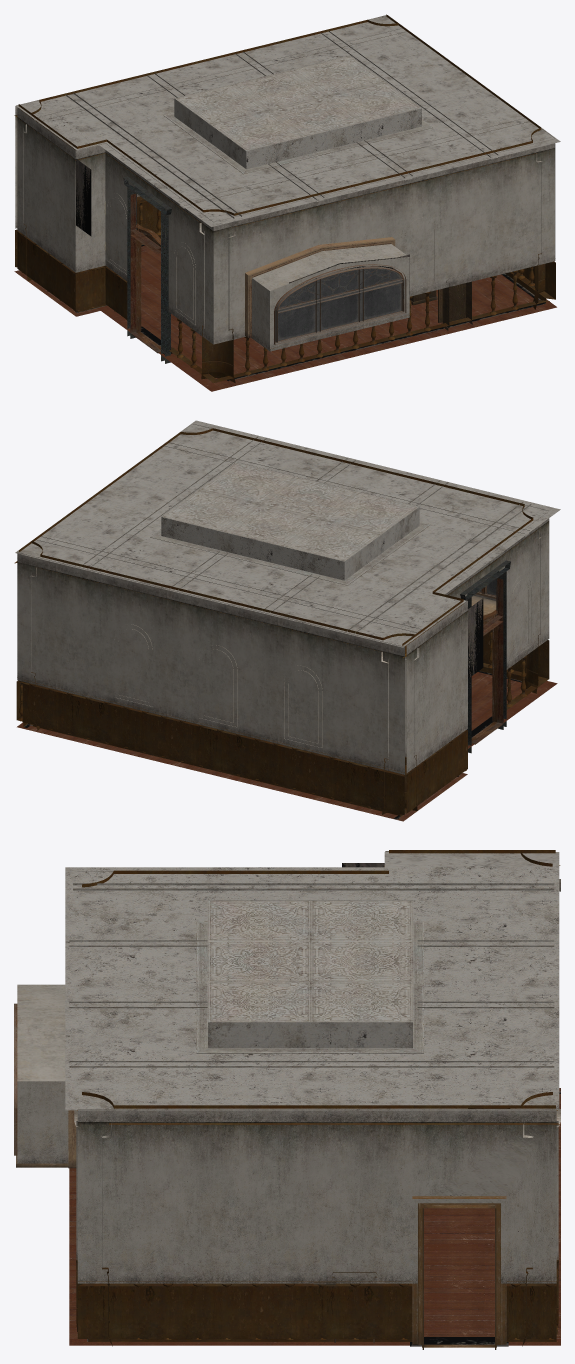
3 renders of one model, top to bottom at view 1: azimuth 30°, elevation 25°; view 2: azimuth 150°, elevation 25°; view 3: azimuth 270°, elevation 25°, orthographic. The views are drawn at different scales.
Parts seen in each view (by area): view 1: LOD_1_Group_0_Sub_2__st2_police2fRightWall01, LOD_1_Group_0_Sub_4__st2_police2fRightCeiling01, LOD_1_Group_0_Sub_5__st2_police2fRightCeiling02, LOD_1_Group_0_Sub_6__st2_police2fRightFrame01, LOD_1_Group_0_Sub_1__st2_police2fRightFloor01, LOD_1_Group_0_Sub_10__st2_police2fRightWindow02_Glass, LOD_1_Group_0_Sub_8__st2_policeHallDoorFrame04, LOD_1_Group_0_Sub_9__st2_police2fRightWindow02, LOD_1_Group_0_Sub_14__st2_police1fLeftDirt02, LOD_1_Group_0_Sub_11__st2_police2fRightDesk01, LOD_1_Group_0_Sub_7__st2_police2fRightDoor01; view 2: LOD_1_Group_0_Sub_2__st2_police2fRightWall01, LOD_1_Group_0_Sub_4__st2_police2fRightCeiling01, LOD_1_Group_0_Sub_6__st2_police2fRightFrame01, LOD_1_Group_0_Sub_5__st2_police2fRightCeiling02, LOD_1_Group_0_Sub_1__st2_police2fRightFloor01, LOD_1_Group_0_Sub_8__st2_policeHallDoorFrame04, LOD_1_Group_0_Sub_14__st2_police1fLeftDirt02, LOD_1_Group_0_Sub_7__st2_police2fRightDoor01; view 3: LOD_1_Group_0_Sub_4__st2_police2fRightCeiling01, LOD_1_Group_0_Sub_2__st2_police2fRightWall01, LOD_1_Group_0_Sub_5__st2_police2fRightCeiling02, LOD_1_Group_0_Sub_6__st2_police2fRightFrame01, LOD_1_Group_0_Sub_1__st2_police2fRightFloor01, LOD_1_Group_0_Sub_7__st2_police2fRightDoor01, LOD_1_Group_0_Sub_14__st2_police1fLeftDirt02, LOD_1_Group_0_Sub_9__st2_police2fRightWindow02.
Boxes of the visible parts, x1=… form: LOD_1_Group_0_Sub_2__st2_police2fRightWall01: x1=15, y1=15, x2=555, y2=351; LOD_1_Group_0_Sub_4__st2_police2fRightCeiling01: x1=16, y1=15, x2=560, y2=226; LOD_1_Group_0_Sub_5__st2_police2fRightCeiling02: x1=34, y1=28, x2=529, y2=337; LOD_1_Group_0_Sub_6__st2_police2fRightFrame01: x1=14, y1=14, x2=555, y2=382; LOD_1_Group_0_Sub_1__st2_police2fRightFloor01: x1=14, y1=246, x2=556, y2=391; LOD_1_Group_0_Sub_10__st2_police2fRightWindow02_Glass: x1=278, y1=268, x2=402, y2=340; LOD_1_Group_0_Sub_8__st2_policeHallDoorFrame04: x1=123, y1=176, x2=171, y2=363; LOD_1_Group_0_Sub_9__st2_police2fRightWindow02: x1=252, y1=264, x2=409, y2=351; LOD_1_Group_0_Sub_14__st2_police1fLeftDirt02: x1=75, y1=159, x2=545, y2=381; LOD_1_Group_0_Sub_11__st2_police2fRightDesk01: x1=411, y1=281, x2=472, y2=330; LOD_1_Group_0_Sub_7__st2_police2fRightDoor01: x1=131, y1=223, x2=164, y2=353; LOD_1_Group_0_Sub_2__st2_police2fRightWall01: x1=17, y1=424, x2=549, y2=774; LOD_1_Group_0_Sub_4__st2_police2fRightCeiling01: x1=15, y1=420, x2=560, y2=647; LOD_1_Group_0_Sub_6__st2_police2fRightFrame01: x1=14, y1=428, x2=549, y2=816; LOD_1_Group_0_Sub_5__st2_police2fRightCeiling02: x1=36, y1=436, x2=531, y2=635; LOD_1_Group_0_Sub_1__st2_police2fRightFloor01: x1=17, y1=672, x2=557, y2=821; LOD_1_Group_0_Sub_8__st2_policeHallDoorFrame04: x1=460, y1=560, x2=510, y2=753; LOD_1_Group_0_Sub_14__st2_police1fLeftDirt02: x1=23, y1=598, x2=521, y2=819; LOD_1_Group_0_Sub_7__st2_police2fRightDoor01: x1=471, y1=609, x2=502, y2=744; LOD_1_Group_0_Sub_4__st2_police2fRightCeiling01: x1=65, y1=852, x2=559, y2=1110; LOD_1_Group_0_Sub_2__st2_police2fRightWall01: x1=17, y1=851, x2=558, y2=1283; LOD_1_Group_0_Sub_5__st2_police2fRightCeiling02: x1=68, y1=883, x2=554, y2=1168; LOD_1_Group_0_Sub_6__st2_police2fRightFrame01: x1=74, y1=850, x2=560, y2=1346; LOD_1_Group_0_Sub_1__st2_police2fRightFloor01: x1=69, y1=1088, x2=560, y2=1345; LOD_1_Group_0_Sub_7__st2_police2fRightDoor01: x1=412, y1=1196, x2=506, y2=1349; LOD_1_Group_0_Sub_14__st2_police1fLeftDirt02: x1=87, y1=863, x2=560, y2=1346; LOD_1_Group_0_Sub_9__st2_police2fRightWindow02: x1=14, y1=1003, x2=68, y2=1167.
Bounding box in the file's own units: 8.39 × 4.08 × 7.4.
